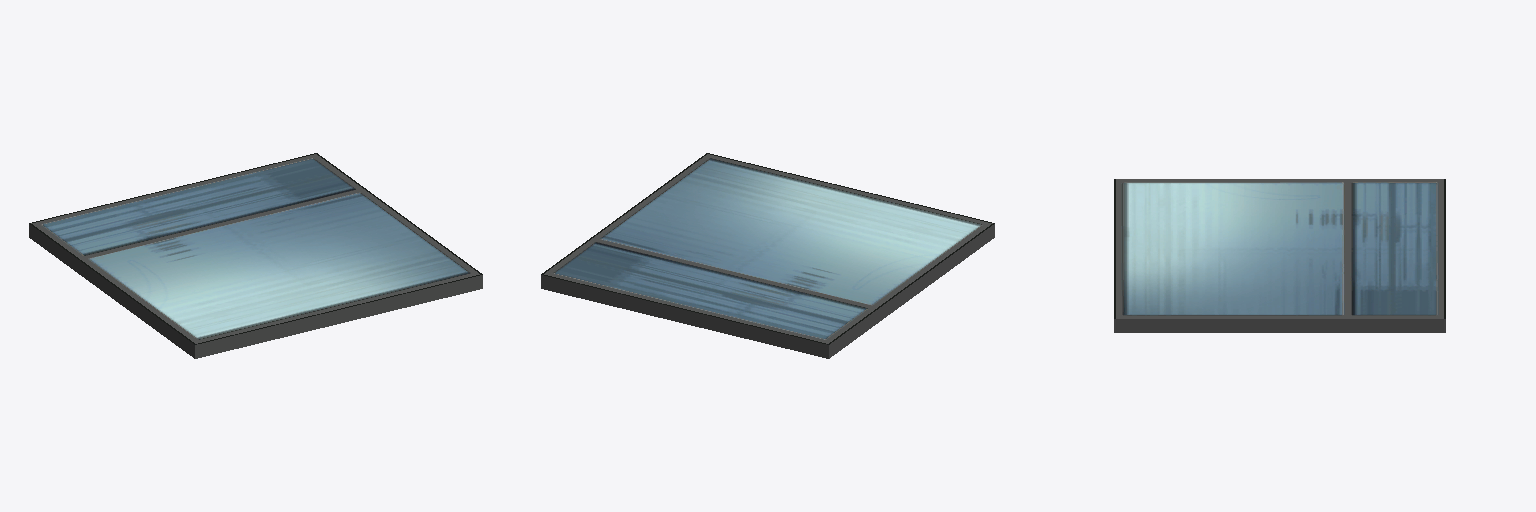
3 views of the same model, side by side, from view 1: azimuth 30°, elevation 25°; view 2: azimuth 150°, elevation 25°; view 3: azimuth 270°, elevation 25° (orthographic).
Visible parts, largest first — view 1: observation_window_1x1_model; view 2: observation_window_1x1_model; view 3: observation_window_1x1_model.
Part boxes in pixels (left/top/right/bottom): observation_window_1x1_model: left=29, top=153, right=482, bottom=358; observation_window_1x1_model: left=541, top=153, right=994, bottom=358; observation_window_1x1_model: left=1114, top=179, right=1445, bottom=332.
Size of the model in its own units: 1 by 0.0465 by 1.
Materials: 1 (1 with a texture image).